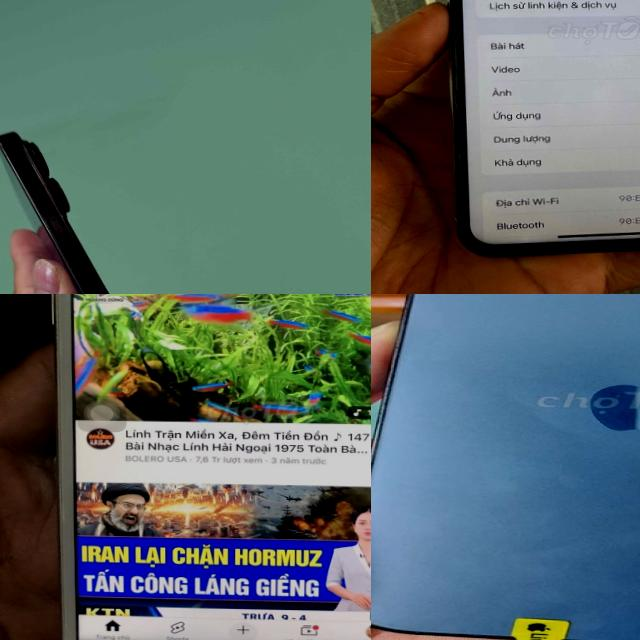scratch: (21, 159, 38, 187)
